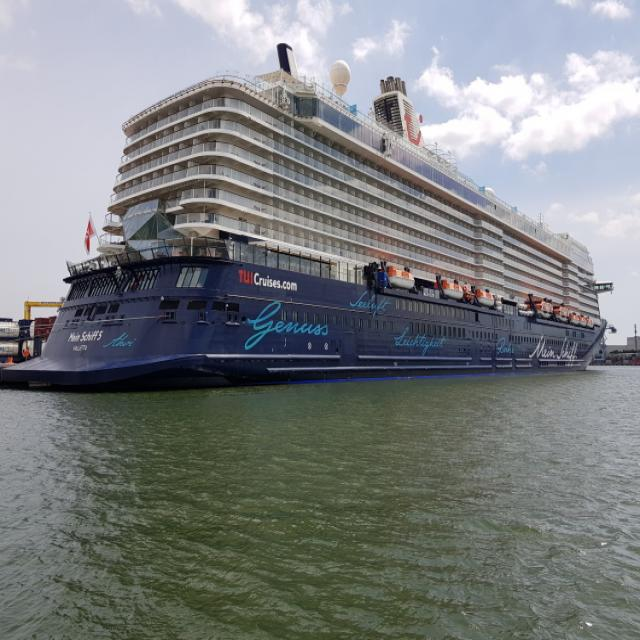cruises: (1, 42, 619, 400)
